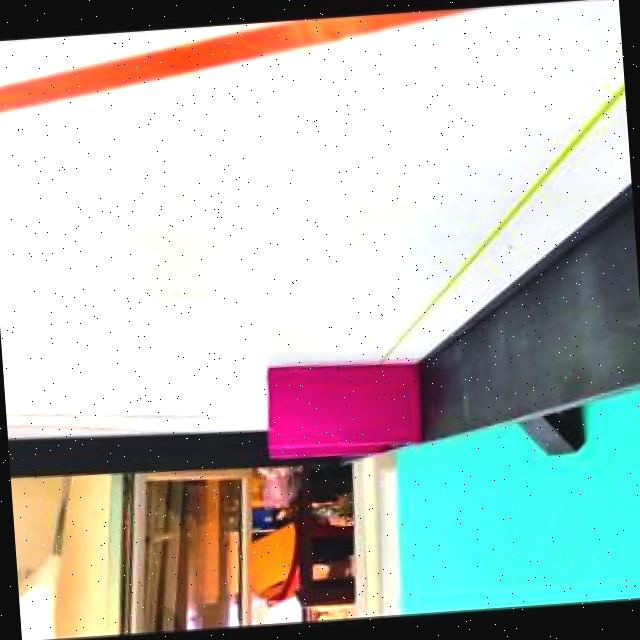xparking: (268, 363, 416, 442)
